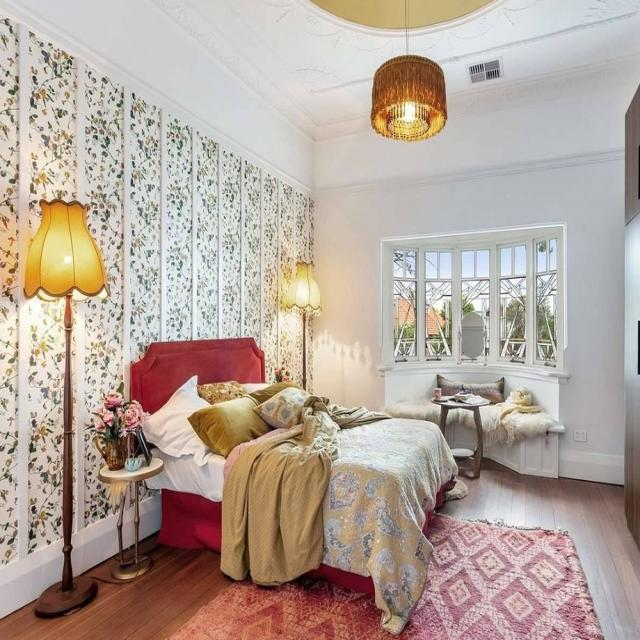bed: (123, 331, 454, 606)
